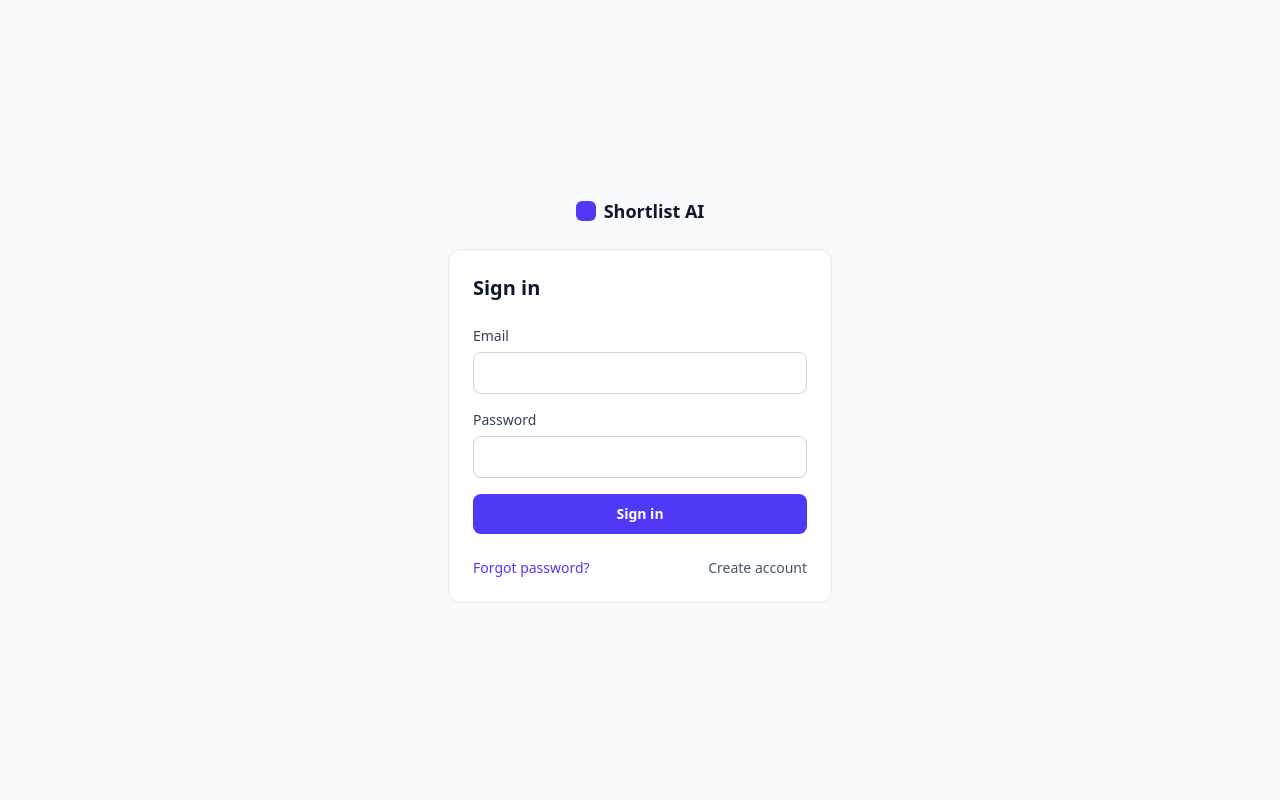
login › signs in and lands in the app
Step 1. Type "alex@example.com" into the field labelled "Email" → (640, 373), box 473,352 -> 807,394
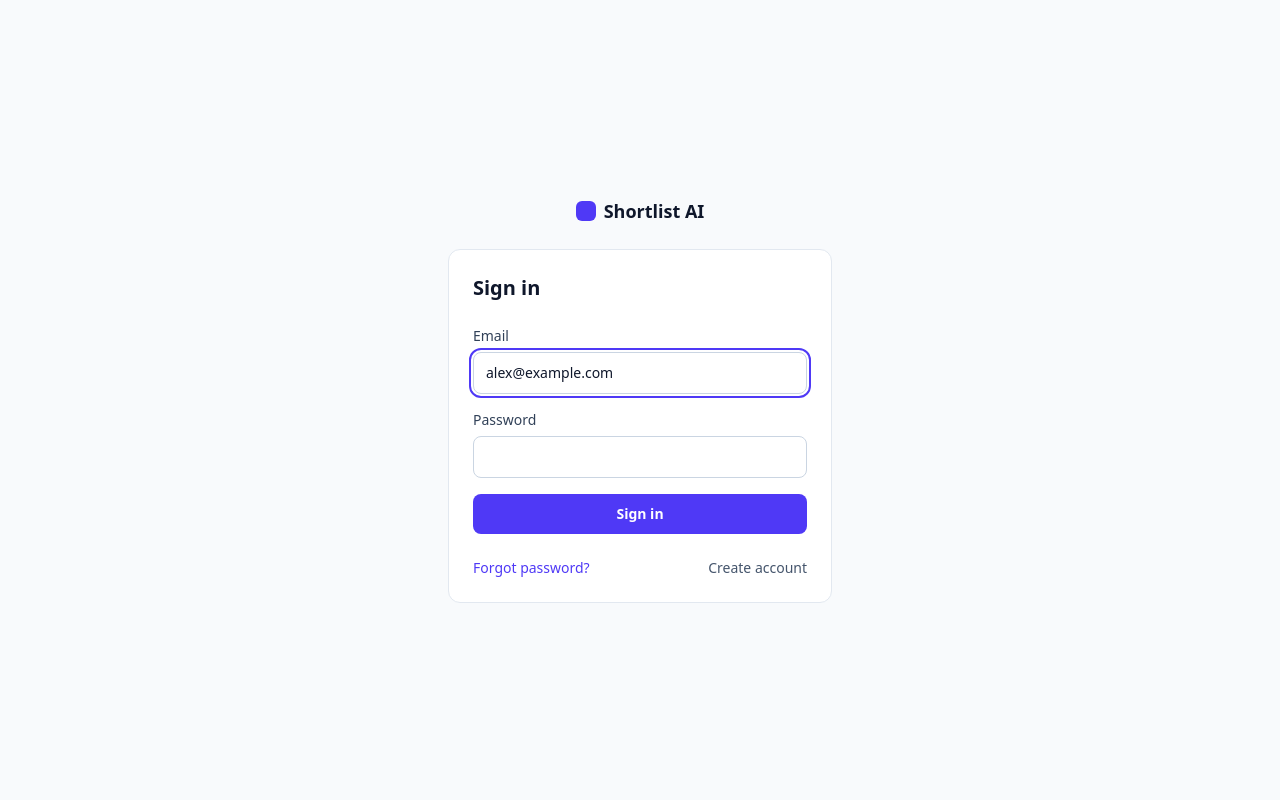
Step 2. Type "Correct-horse-1" into the password field labelled "Password" → (640, 457), box 473,436 -> 807,478
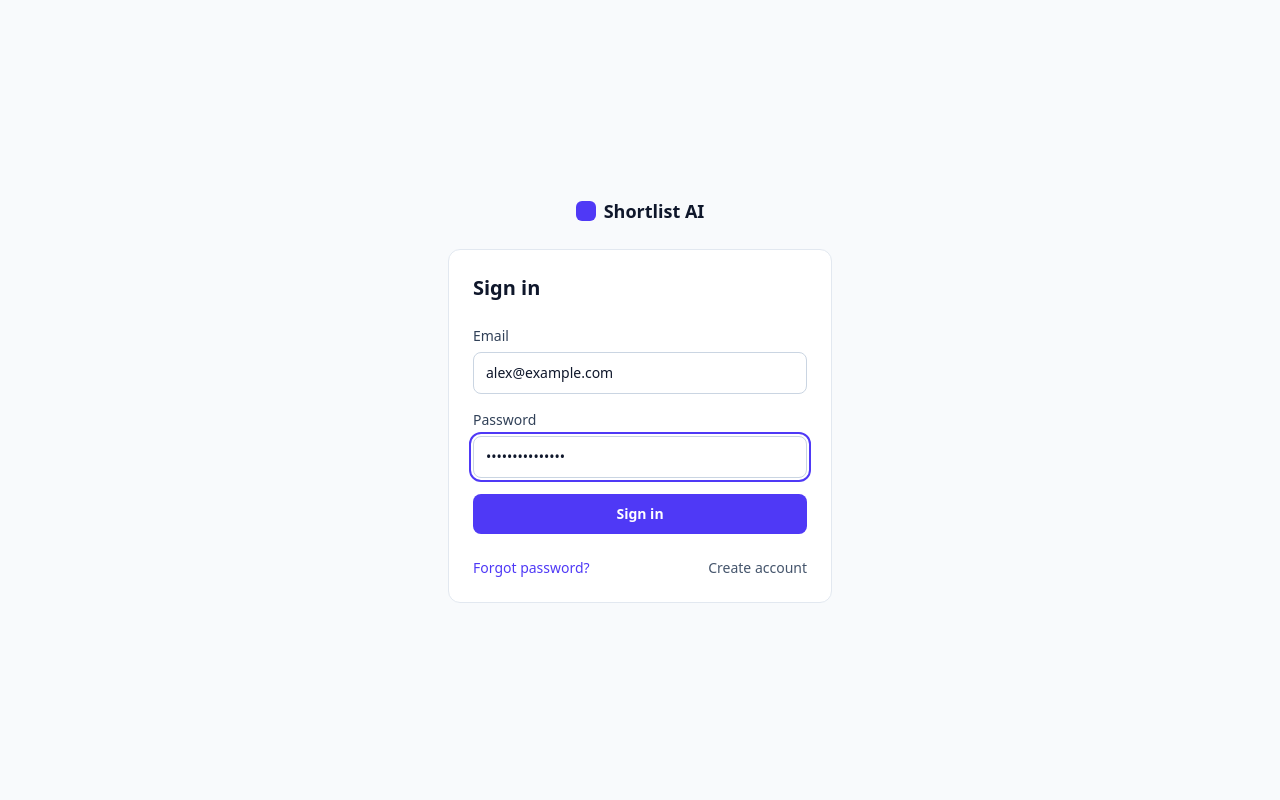
Step 3. Click the button "Sign in" → (640, 514), box 473,494 -> 807,534
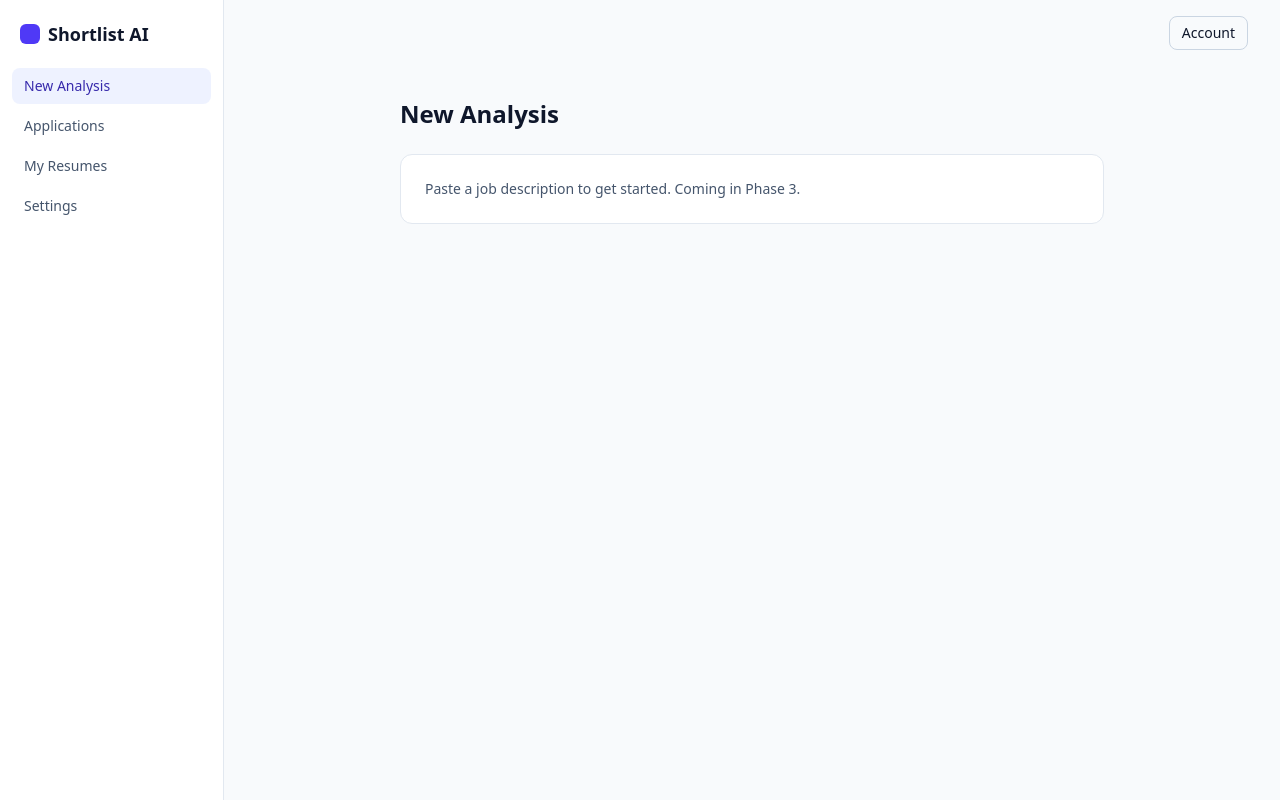
Now the heading "New Analysis" is shown, box 400,97 -> 559,130
